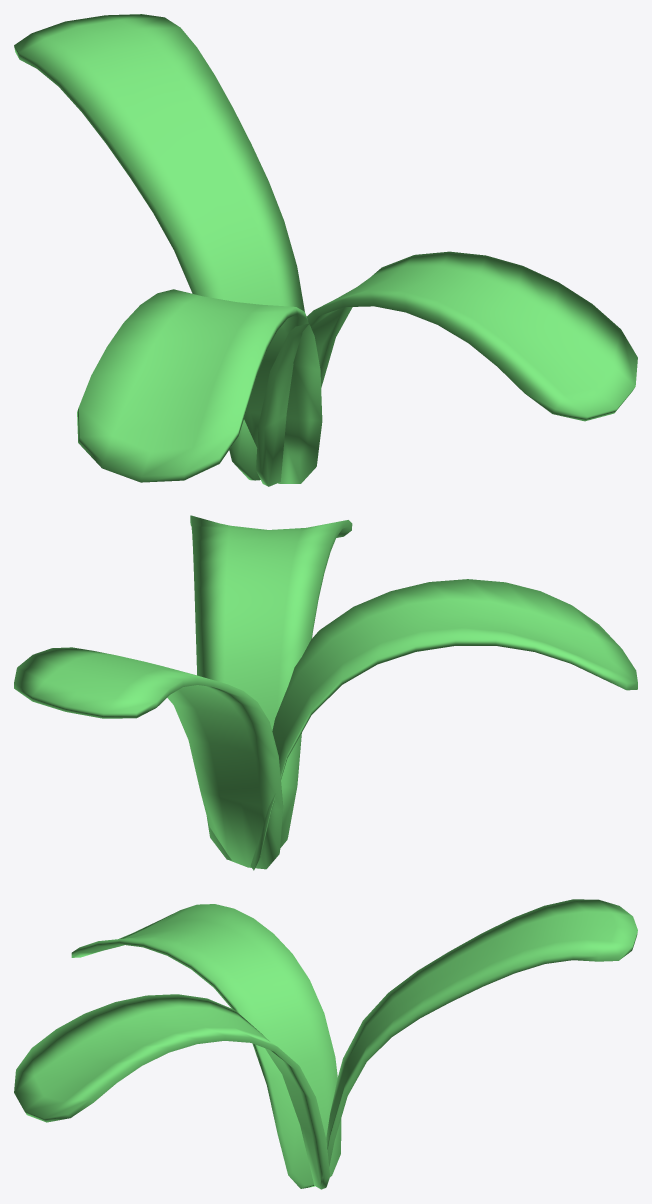
File: herbe.fbx
The picture shows the model from 3 angles, top to bottom: view 1: azimuth 30°, elevation 25°; view 2: azimuth 150°, elevation 25°; view 3: azimuth 270°, elevation 25°; orthographic projection. The views are drawn at different scales.
Parts seen in each view (by area): view 1: Plane.002; view 2: Plane.002; view 3: Plane.002.
Boxes of the visible parts, left/top/right/bottom form: Plane.002: left=14, top=14, right=637, bottom=486; Plane.002: left=14, top=515, right=637, bottom=870; Plane.002: left=14, top=899, right=637, bottom=1189.
Size of the model in its own units: 7.08 by 4.38 by 9.6.
